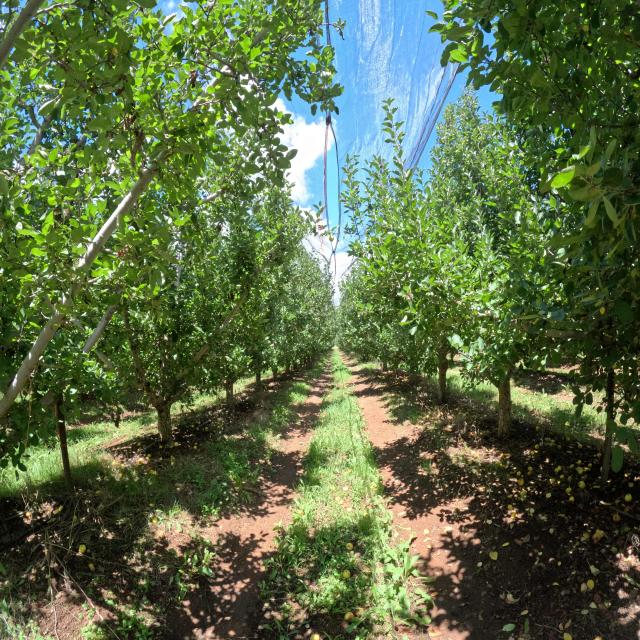-FireBlight-: (116, 248, 132, 260)
